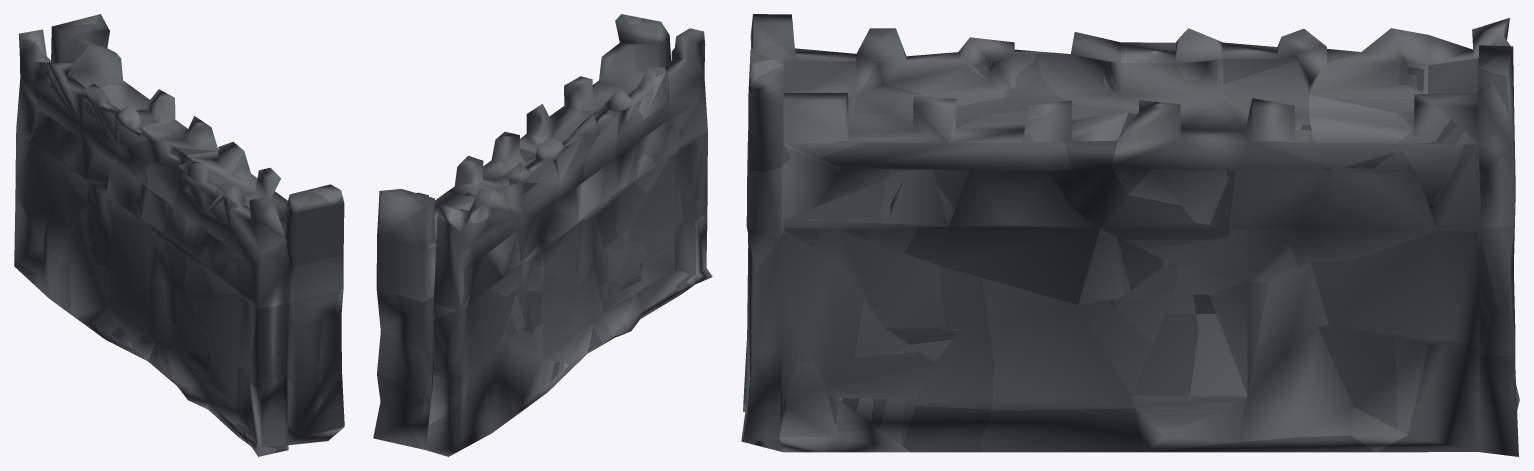
File: castle_wall_stone_lo.glb
3 renders of one model, left to right at view 1: azimuth 30°, elevation 25°; view 2: azimuth 150°, elevation 25°; view 3: azimuth 270°, elevation 25°, orthographic. The views are drawn at different scales.
Parts seen in each view (by area): view 1: tripo_node_f19b39a2-0cf7-4830-ad2a-8578c0ea9ca5; view 2: tripo_node_f19b39a2-0cf7-4830-ad2a-8578c0ea9ca5; view 3: tripo_node_f19b39a2-0cf7-4830-ad2a-8578c0ea9ca5.
Boxes of the visible parts, <box> form: tripo_node_f19b39a2-0cf7-4830-ad2a-8578c0ea9ca5: <box>14,14,344,456</box>; tripo_node_f19b39a2-0cf7-4830-ad2a-8578c0ea9ca5: <box>373,14,712,456</box>; tripo_node_f19b39a2-0cf7-4830-ad2a-8578c0ea9ca5: <box>741,14,1519,456</box>.
Size of the model in its own units: 0.2 by 0.526 by 0.9753.
1 material, 1 textured.
